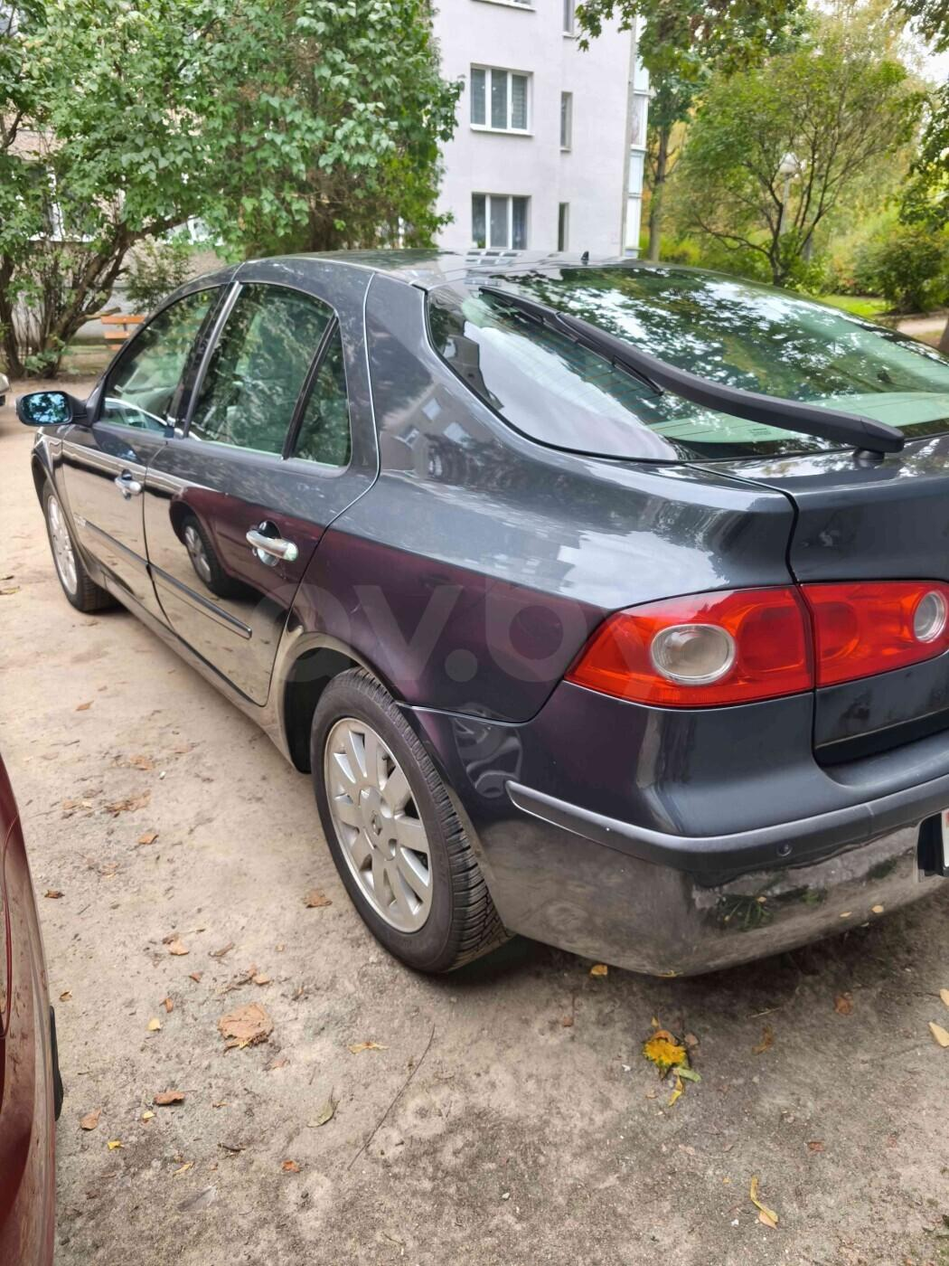Laguna_2005-2007: (20, 242, 949, 1006)
